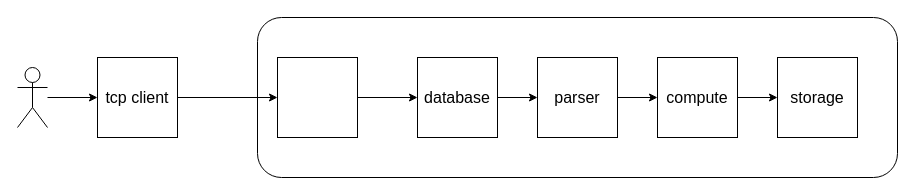
The diagram is 915 pixels wide and 195 high, and some of its shapes have lost their labels. Each missing label, with the centre of its shape:
Actor: point (32, 97)
tcp server: point (317, 97)
